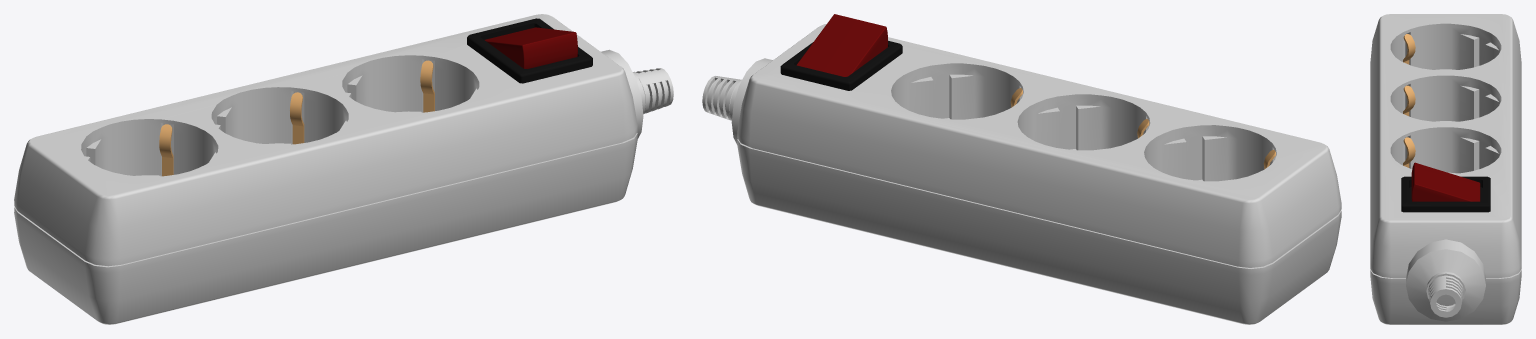
The model's file is short.fbx.
3 renders of one model, left to right at view 1: azimuth 30°, elevation 25°; view 2: azimuth 150°, elevation 25°; view 3: azimuth 270°, elevation 25°, orthographic. The views are drawn at different scales.
Parts seen in each view (by area): view 1: connector strip.001, switch.001; view 2: connector strip.001, switch.001; view 3: connector strip.001, switch.001.
Part boxes in pixels (x1=…): connector strip.001: x1=14, y1=14, x2=673, y2=324; switch.001: x1=485, y1=27, x2=577, y2=68; connector strip.001: x1=702, y1=24, x2=1341, y2=324; switch.001: x1=796, y1=14, x2=887, y2=76; connector strip.001: x1=1370, y1=14, x2=1521, y2=324; switch.001: x1=1411, y1=162, x2=1480, y2=201.
Size of the model in its own units: 20.23 by 5.04 by 5.34.
